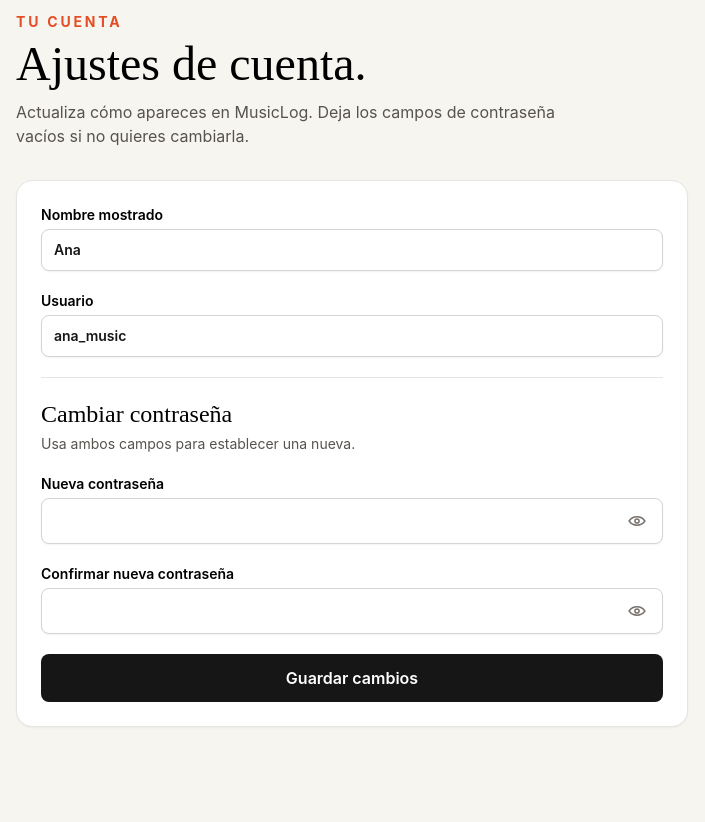
AccountSettingsPage › shows a field error for a password that is too short
Type "short" into the password field labelled "Nueva contraseña".
click(352, 521); type("short")  # box 41,498 -> 663,544
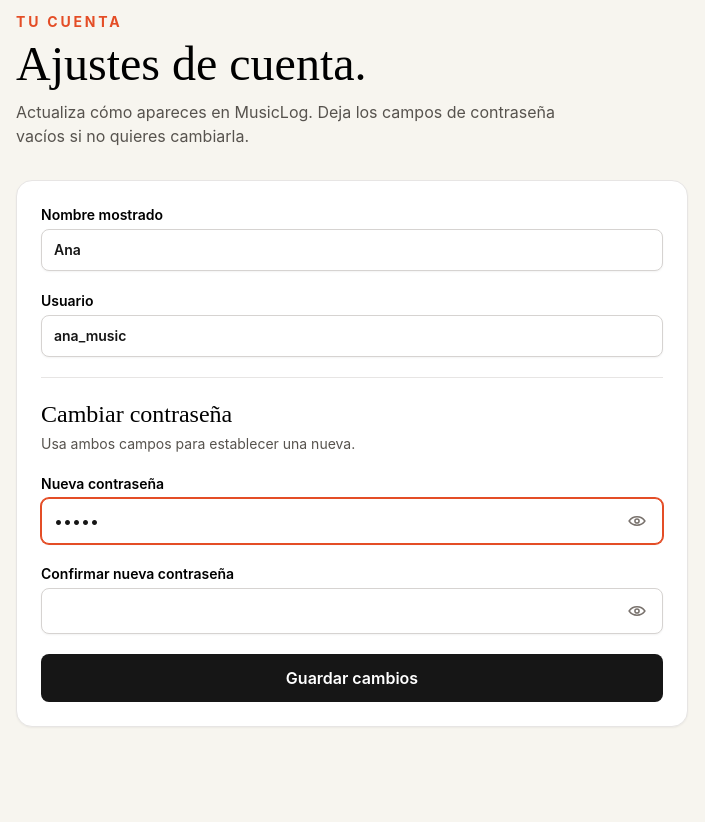
Type "short" into the password field labelled "Confirmar nueva contraseña".
click(352, 611); type("short")  # box 41,588 -> 663,634
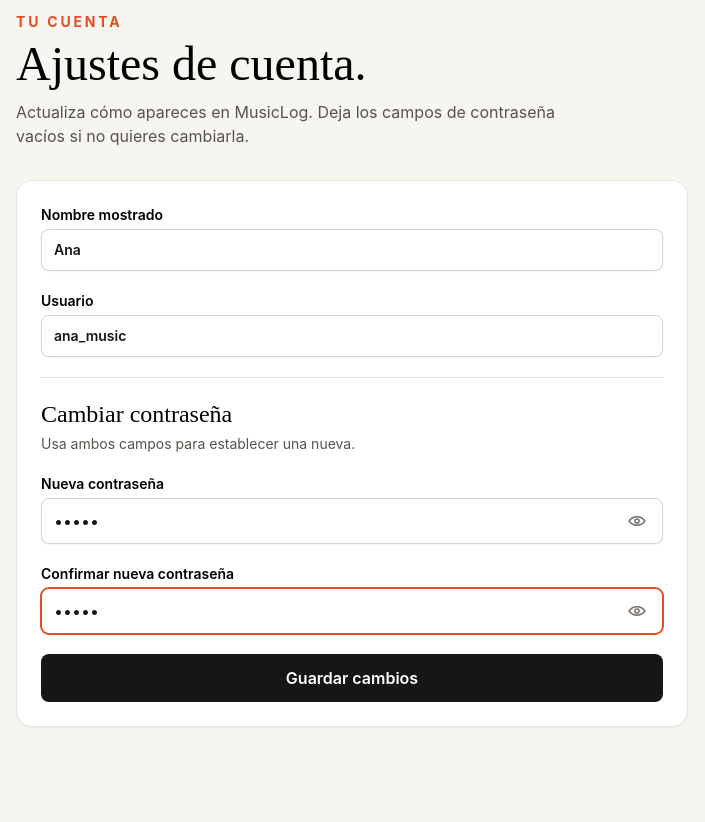
Click the button "Guardar cambios".
click(352, 678)  # box 41,654 -> 663,702
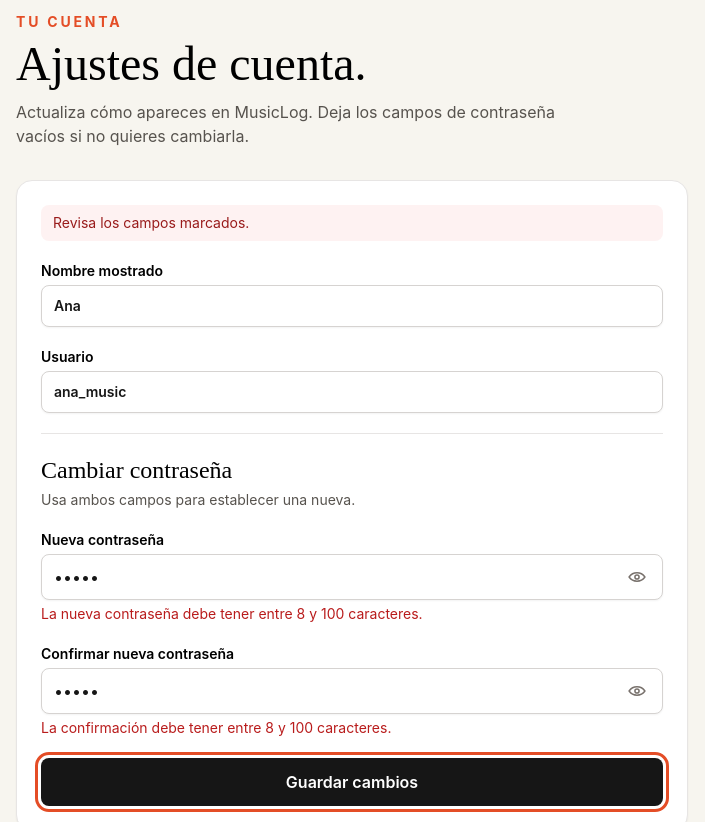
Result: the text "La nueva contraseña debe tener entre 8 y 100 caracteres." is shown at 41,605 -> 423,622
